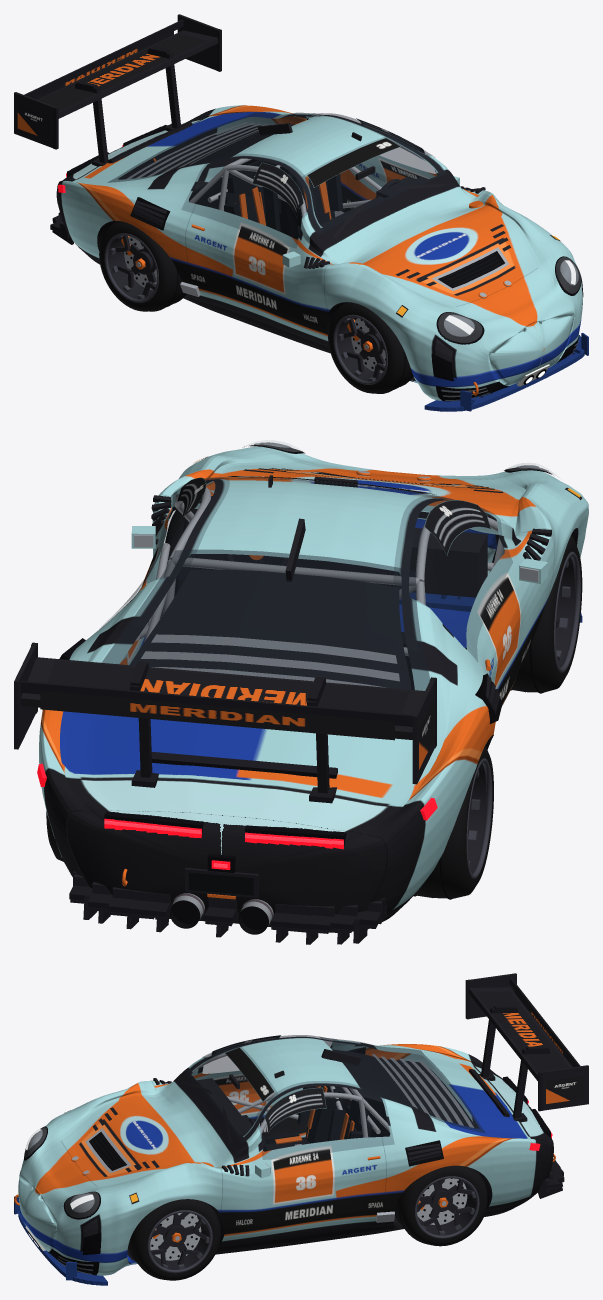
File: meridian911gt3r.glb
3 renders of one model, top to bottom at view 1: azimuth 30°, elevation 25°; view 2: azimuth 150°, elevation 25°; view 3: azimuth 270°, elevation 25°, orthographic. The views are drawn at different scales.
Parts seen in each view (by area): view 1: body_shell, side_glass_l, windscreen, rear_window, wing_livery, wheel_front_l_tyre, wheel_rear_l_tyre, engine_bay_floor, wing_blade, screen_header, wing_gurney, side_glass_r (+20 smaller); view 2: body_shell, rear_window, engine_bay_floor, side_glass_l, wing_livery, wing_livery_rear, dashboard, wing_gurney, side_glass_r, wheel_front_l_tyre, wheel_rear_l_tyre, bay_louvre_0 (+20 smaller); view 3: body_shell, side_glass_r, rear_window, windscreen, engine_bay_floor, wheel_front_r_tyre, wheel_rear_r_tyre, wing_livery, side_banner_r, wing_blade, wing_endplate_r, screen_header (+23 smaller).
Part boxes in pixels (<box>): body_shell: <box>56,105,583,400</box>; side_glass_l: <box>181,154,315,247</box>; windscreen: <box>298,135,446,234</box>; rear_window: <box>107,112,323,182</box>; wing_livery: <box>39,34,207,109</box>; wheel_front_l_tyre: <box>328,302,412,393</box>; wheel_rear_l_tyre: <box>99,221,185,311</box>; engine_bay_floor: <box>131,124,295,178</box>; wing_blade: <box>37,30,218,118</box>; screen_header: <box>307,138,400,187</box>; wing_gurney: <box>24,19,183,97</box>; side_glass_r: <box>315,113,435,173</box>; body_shell: <box>39,446,588,932</box>; rear_window: <box>102,549,429,690</box>; engine_bay_floor: <box>130,569,411,689</box>; side_glass_l: <box>394,496,512,661</box>; wing_livery: <box>47,660,409,725</box>; wing_livery_rear: <box>40,691,394,740</box>; dashboard: <box>190,528,487,597</box>; wing_gurney: <box>20,681,413,726</box>; side_glass_r: <box>101,478,229,627</box>; wheel_front_l_tyre: <box>489,535,582,692</box>; wheel_rear_l_tyre: <box>414,745,493,898</box>; bay_louvre_0: <box>151,634,397,663</box>; body_shell: <box>18,1036,553,1275</box>; side_glass_r: <box>254,1081,394,1159</box>; rear_window: <box>319,1036,485,1132</box>; windscreen: <box>185,1044,279,1142</box>; engine_bay_floor: <box>332,1049,476,1128</box>; wheel_front_r_tyre: <box>128,1199,220,1280</box>; wheel_rear_r_tyre: <box>394,1165,487,1246</box>; wing_livery: <box>475,991,568,1071</box>; side_banner_r: <box>264,1087,326,1132</box>; wing_blade: <box>468,987,572,1080</box>; wing_endplate_r: <box>542,1065,588,1110</box>; screen_header: <box>225,1047,274,1101</box>.
Size of the model in its own units: 2.92 by 1.42 by 4.52.
Materials: 37 (4 with a texture image).
